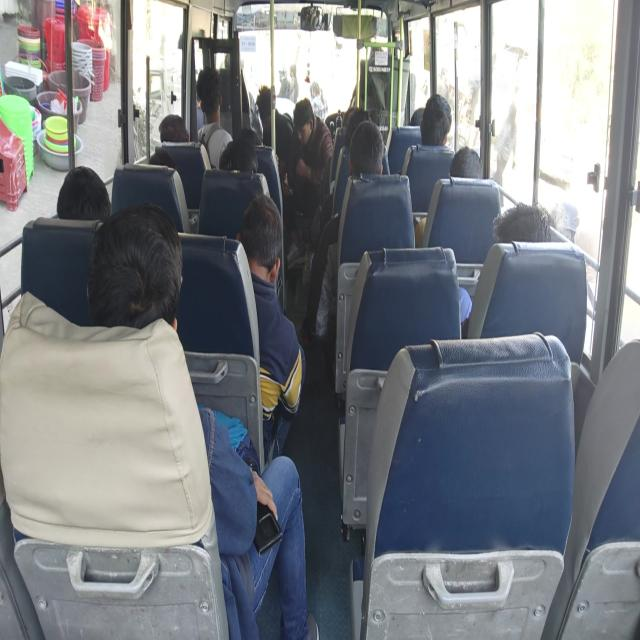person: (109, 233, 163, 319), (235, 212, 281, 280), (492, 212, 556, 258), (59, 172, 108, 229), (446, 146, 498, 192), (223, 137, 265, 192), (138, 137, 180, 183), (193, 72, 229, 124), (358, 136, 390, 190), (159, 110, 195, 154), (424, 93, 453, 145), (288, 103, 316, 152), (361, 30, 391, 65), (235, 115, 272, 143), (341, 120, 376, 148), (256, 93, 280, 125), (220, 34, 233, 52)
